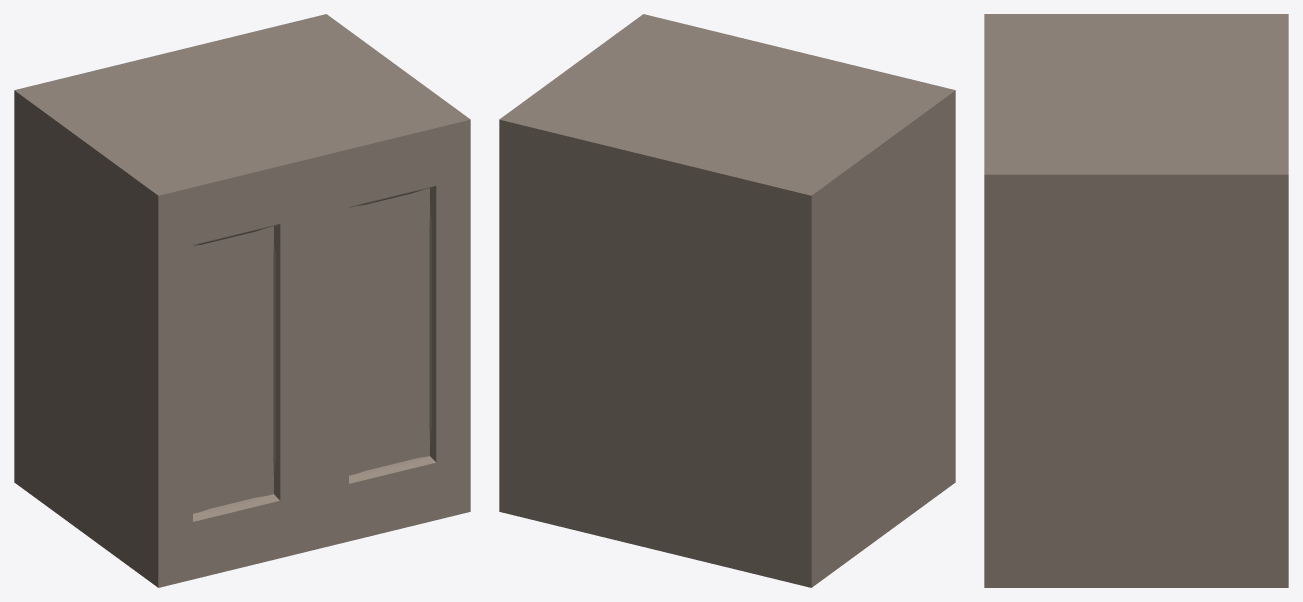
The model's file is Wall-Cabinet-18-High-12-Deep_std_001_W15in.glb.
3 views of the same model, side by side, from view 1: azimuth 30°, elevation 25°; view 2: azimuth 150°, elevation 25°; view 3: azimuth 270°, elevation 25° (orthographic). The views are drawn at different scales.
Visible parts, largest first — view 1: Wall-Cabinet-18-High-12-Deep.std.001_W15in; view 2: Wall-Cabinet-18-High-12-Deep.std.001_W15in; view 3: Wall-Cabinet-18-High-12-Deep.std.001_W15in.
Part boxes in pixels (x1,y1,x2,y2): Wall-Cabinet-18-High-12-Deep.std.001_W15in: (14,14,470,587); Wall-Cabinet-18-High-12-Deep.std.001_W15in: (499,14,955,587); Wall-Cabinet-18-High-12-Deep.std.001_W15in: (984,14,1288,587).
Size of the model in its own units: 0.381 by 0.4572 by 0.3048.
